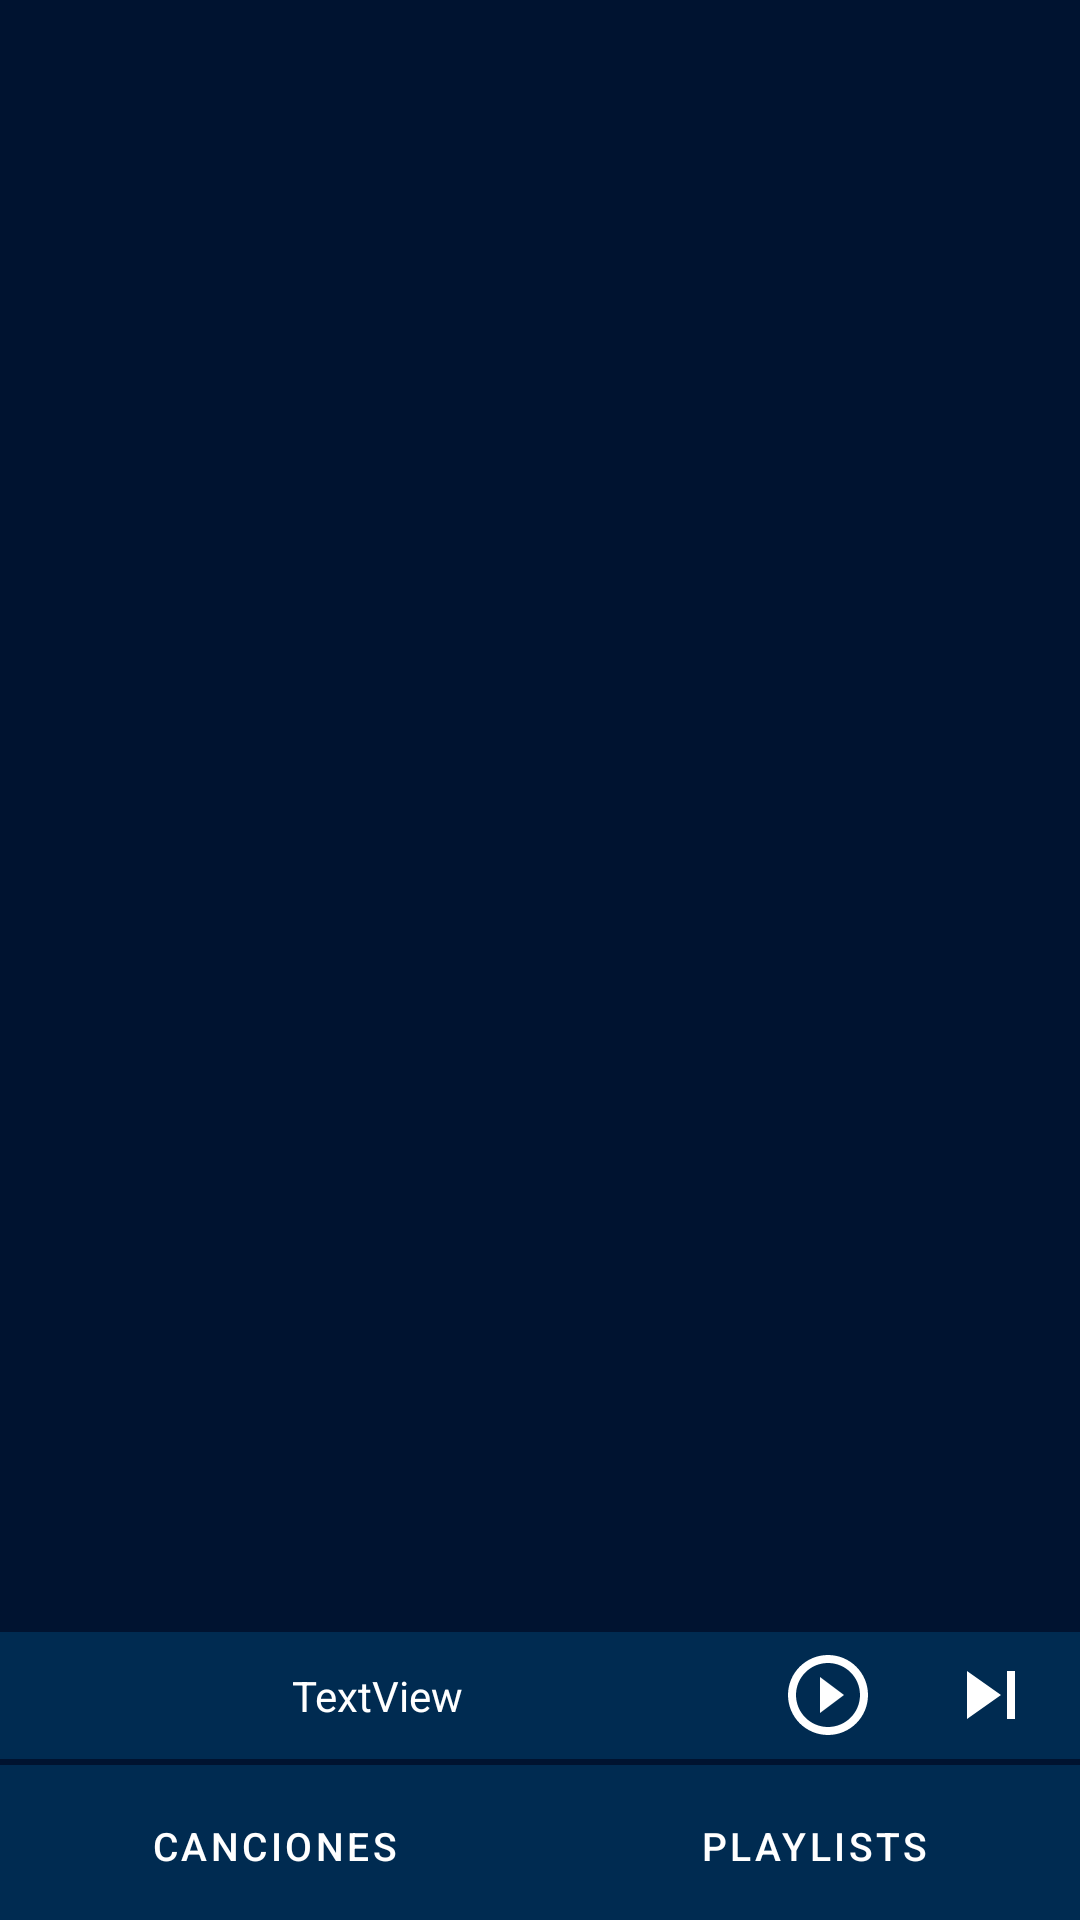

Locate icon controls on the screen. Image size 1080×1920, boxes as BBox(x1, y1, x2, y2).
play circle: BBox(788, 1655, 868, 1735)
skip next: BBox(967, 1671, 1015, 1719)
